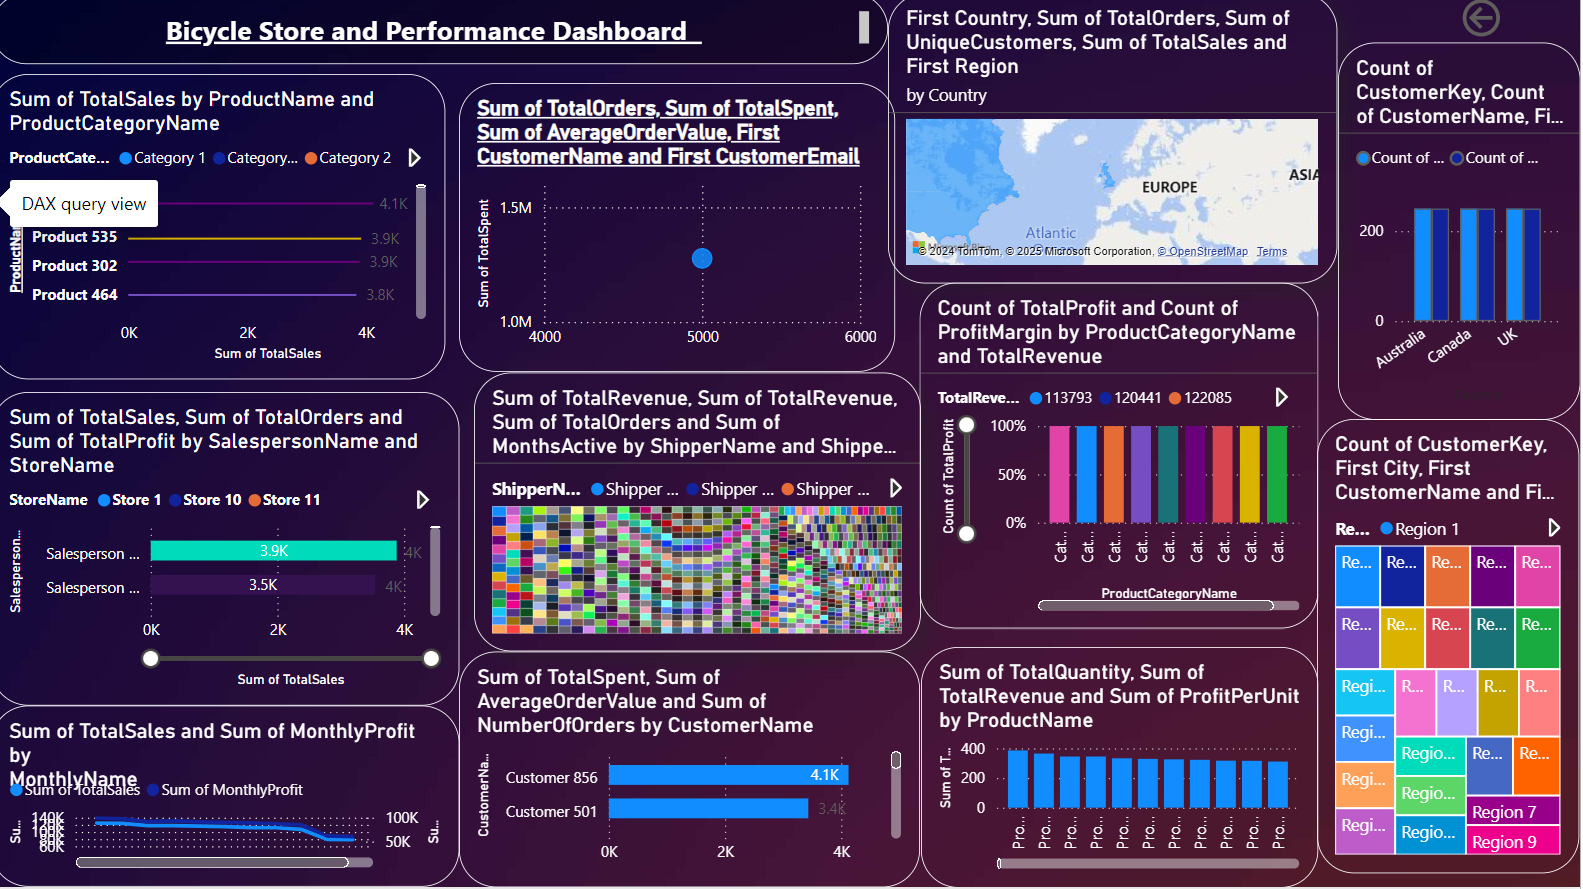

The dashboard page shown, as its layout file describes it:
{"tool":"powerbi","page":{"name":"Page 1","canvas":[1280,720],"ordinal":0},"visuals":[{"type":"textbox","box":[0,0,722.5,57.5],"z":0},{"type":"clusteredBarChart","fields":{"Y":["q1.TotalSales"],"Category":["q1.ProductName"],"Series":["q1.ProductCategoryName"]},"box":[0,65.7,365.7,245.7],"z":1000},{"type":"scatterChart","fields":{"X":["q2.TotalOrders"],"Y":["q2.TotalSpent"],"Size":["q2.AverageOrderValue"]},"box":[377.1,72.9,351.4,232.9],"z":2000},{"type":"barChart","fields":{"Y":["q3.TotalSales"],"Category":["q3.SalespersonName"],"Series":["q3.StoreName"]},"box":[0,321.4,377.1,252.9],"z":3000},{"type":"treemap","fields":{"Group":["q4.ShipperName"],"Details":["q4.ShipperName"],"Values":["q4.TotalRevenue"]},"box":[388.9,305.6,360,224.4],"z":4000},{"type":"filledMap","fields":{"Category":["q5.Country"],"X":["q5.Country"]},"box":[722,0,362,234],"z":5000},{"type":"actionButton","box":[1180,0,100,40],"z":6000},{"type":"lineChart","fields":{"Category":["q6.MonthlyName"],"Y2":["q6.MonthlyProfit"],"Y":["q6.TotalSales"]},"box":[0,574.3,377.1,145.7],"z":7000},{"type":"clusteredBarChart","fields":{"Category":["q7.CustomerName"],"Y":["q7.TotalSpent"]},"box":[377.1,530,371.4,190],"z":8000},{"type":"hundredPercentStackedColumnChart","fields":{"Category":["q8.ProductCategoryName"],"Y":["q8.TotalProfit"],"Series":["q8.TotalRevenue"]},"box":[747.5,233.8,321.2,278.8],"z":8001},{"type":"clusteredColumnChart","fields":{"Category":["q9.ProductName"],"Y":["q9.TotalQuantity"]},"box":[748.8,526.2,320,193.8],"z":8002},{"type":"clusteredColumnChart","fields":{"Category":["e3_other_customers.Country"],"Y":["e3_other_customers.CustomerKey","e3_other_customers.CustomerName"]},"box":[1085,40,195,303.8],"z":8003},{"type":"treemap","fields":{"Group":["e3_USA_customers.Region"],"Values":["e3_USA_customers.CustomerKey"]},"box":[1068.8,343.8,211.2,366.2],"z":8004}]}

Visuals, with their boxes in screenshot pixels (x1, y1, x2, y2), scaled from the page's 1280x720 canvas onto the 1583x889 screenshot:
textbox: bbox(0, 0, 894, 71)
clusteredBarChart - q1.TotalSales x q1.ProductName: bbox(0, 81, 452, 384)
scatterChart - q2.TotalOrders x q2.TotalSpent: bbox(466, 90, 901, 378)
barChart - q3.TotalSales x q3.SalespersonName: bbox(0, 397, 466, 709)
treemap - q4.ShipperName x q4.ShipperName: bbox(481, 377, 926, 654)
filledMap - q5.Country x q5.Country: bbox(893, 0, 1341, 289)
actionButton: bbox(1459, 0, 1582, 49)
lineChart - q6.MonthlyName x q6.MonthlyProfit: bbox(0, 709, 466, 888)
clusteredBarChart - q7.CustomerName x q7.TotalSpent: bbox(466, 654, 926, 888)
hundredPercentStackedColumnChart - q8.ProductCategoryName x q8.TotalProfit: bbox(924, 289, 1322, 633)
clusteredColumnChart - q9.ProductName x q9.TotalQuantity: bbox(926, 650, 1322, 888)
clusteredColumnChart - e3_other_customers.Country x e3_other_customers.CustomerKey: bbox(1342, 49, 1582, 424)
treemap - e3_USA_customers.Region x e3_USA_customers.CustomerKey: bbox(1322, 424, 1582, 877)
